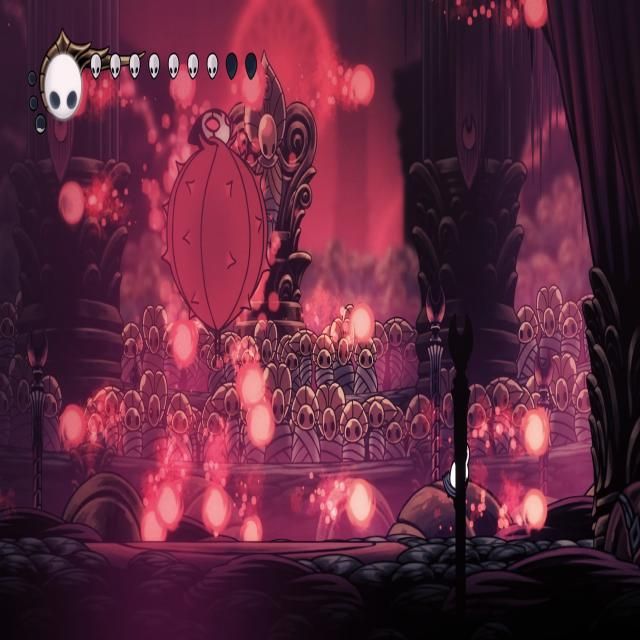Player: (440, 448, 480, 541)
Pufferfish: (158, 102, 275, 366)
Tiny Fireballs: (157, 483, 184, 535), (203, 482, 230, 534), (170, 319, 197, 368), (248, 401, 276, 447), (238, 364, 266, 410), (522, 410, 548, 458), (169, 66, 196, 111), (60, 404, 86, 449), (59, 182, 85, 226), (348, 479, 373, 524), (241, 67, 266, 111), (522, 491, 547, 532), (350, 65, 374, 107), (350, 304, 374, 344), (141, 507, 167, 543), (521, 0, 549, 29), (242, 515, 262, 542)
